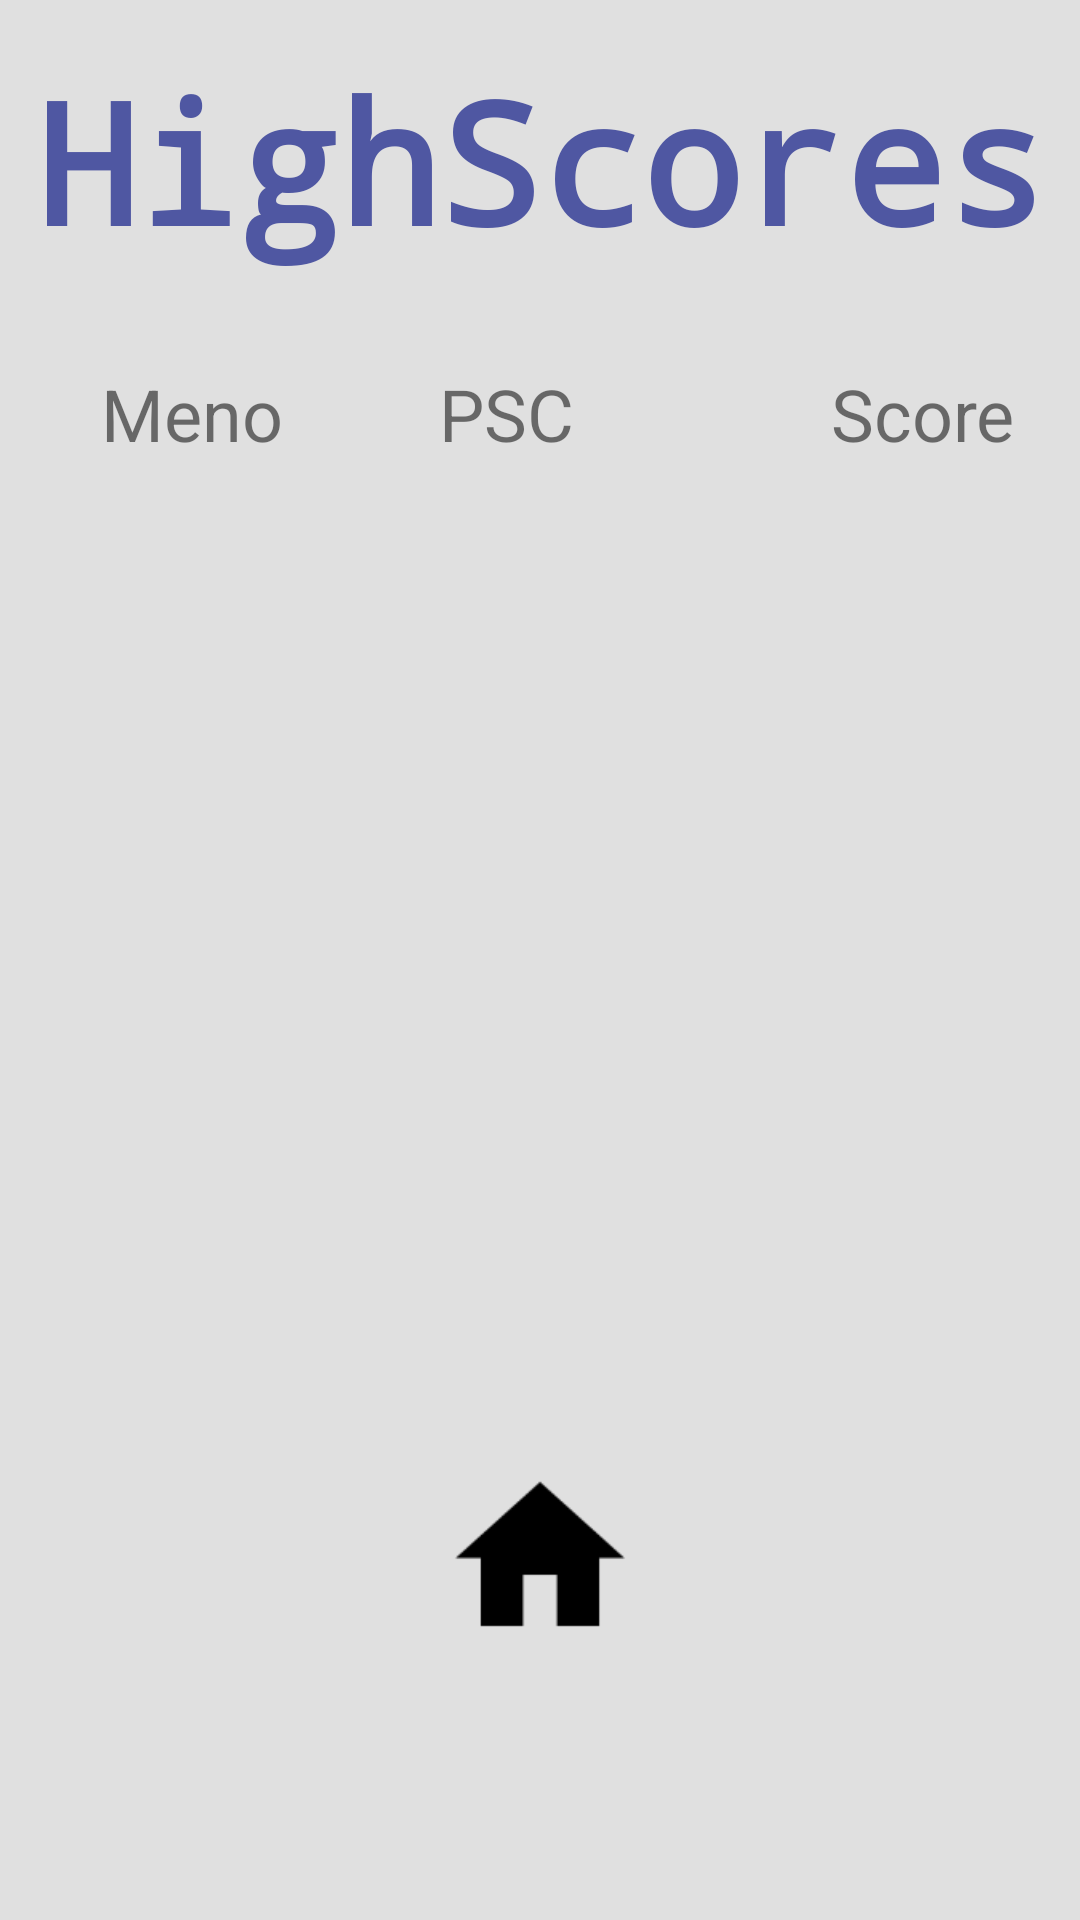

Locate icon controls on the screen. Image size 1080 x 1920, boxes as (x1, y1, x2, y2).
home: (456, 1481, 625, 1627)
